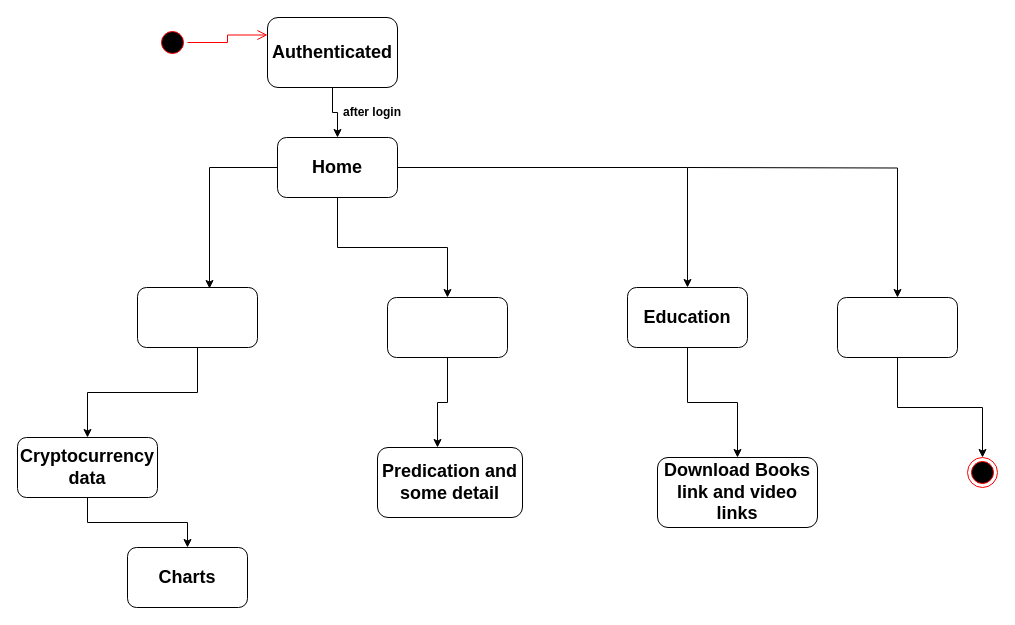
Image size: 1015x625. Some labels were removed from this diagram. The shapes that lost their labels are listed below. From the top down, each one's centre as x and y in pixels, then its label:
(197,317): Dashboard
(447,327): Ai bot
(897,327): Logout
